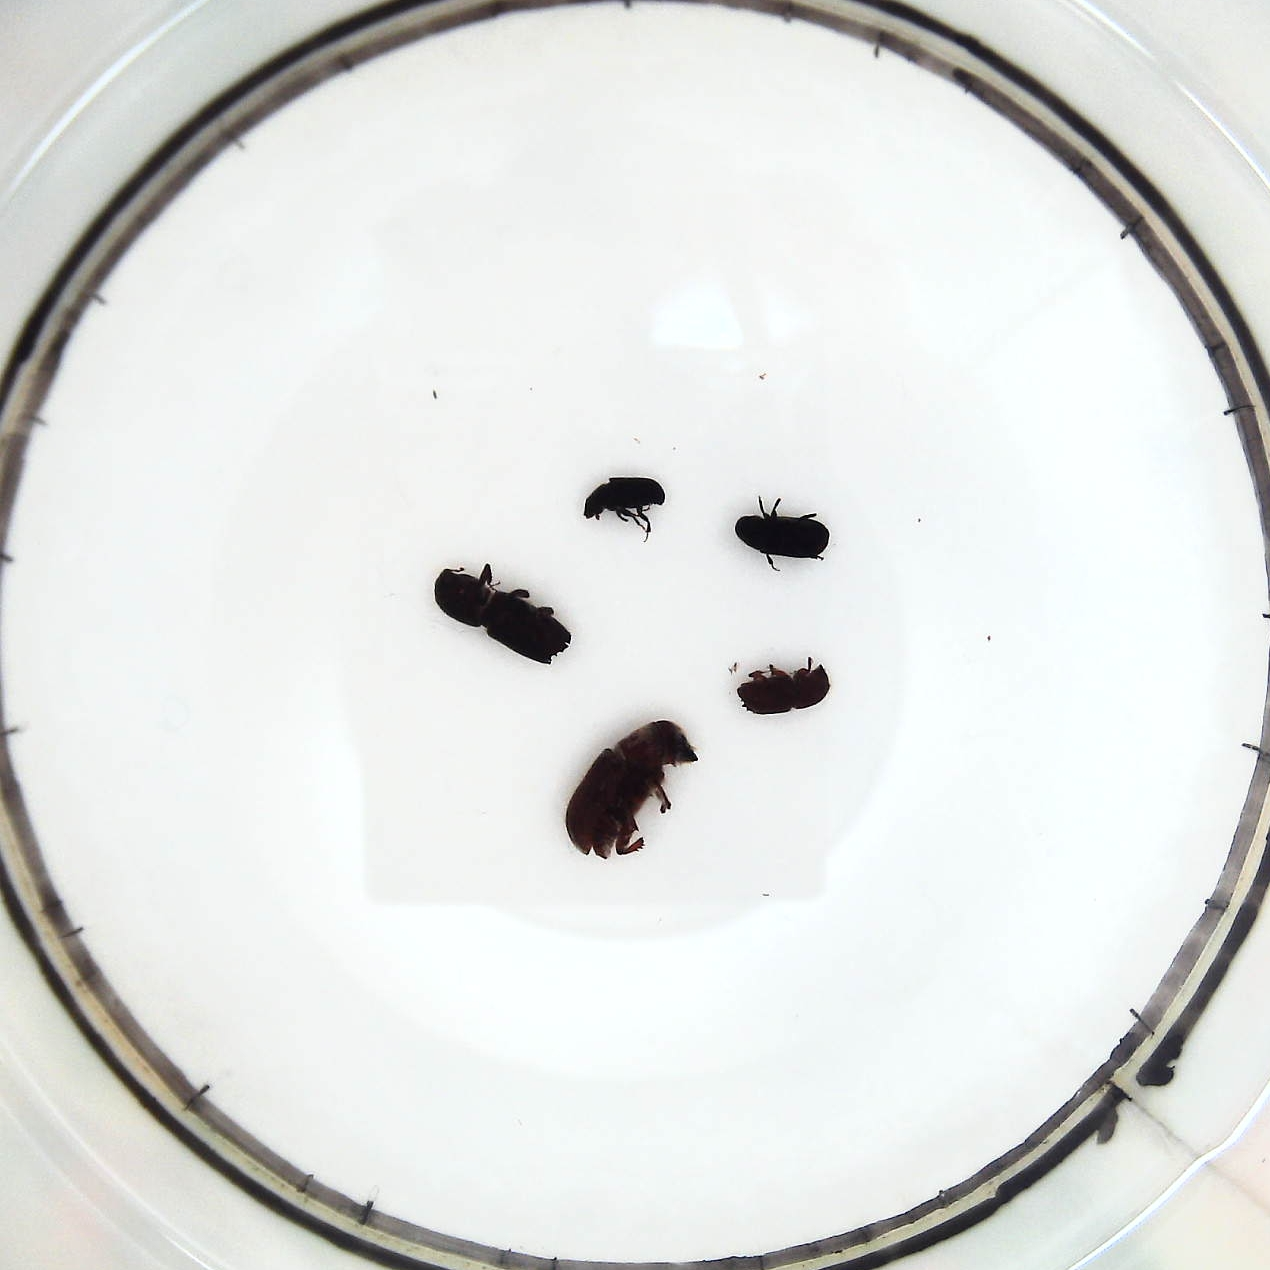Boerner: (428, 561, 577, 665)
Leconte: (565, 714, 706, 865)
armandi: (728, 490, 833, 578)
coleoptera: (579, 470, 668, 541)
linnaeus: (736, 656, 832, 726)
